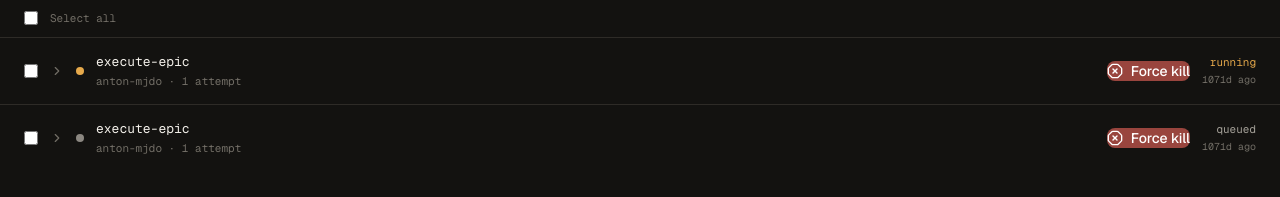
Scenario: Bulk kill bar › cancels only the ids the server confirmed and surfaces each refusal
Click the checkbox labelled "Select all" at x=31, y=18, box [24,11,38,25]
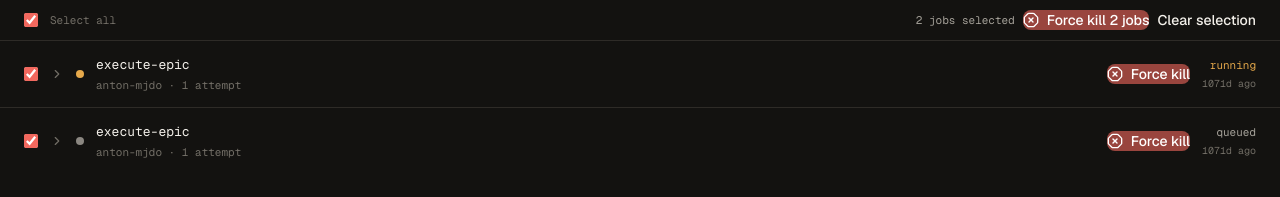
Click the button "Force kill 2 jobs" at x=1086, y=20, box [1023,10,1150,30]
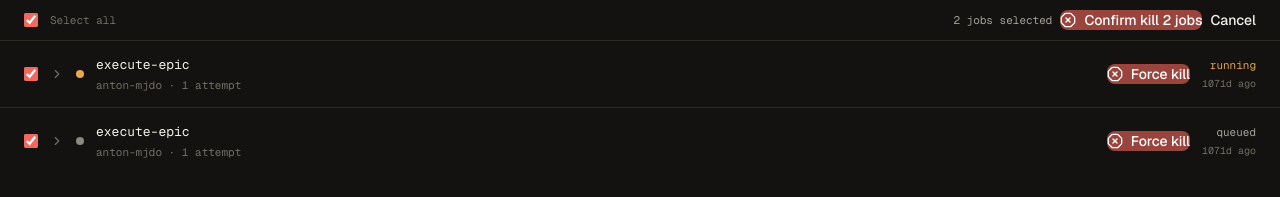
Click the button "Confirm kill 2 jobs" at x=1131, y=20, box [1060,10,1202,30]
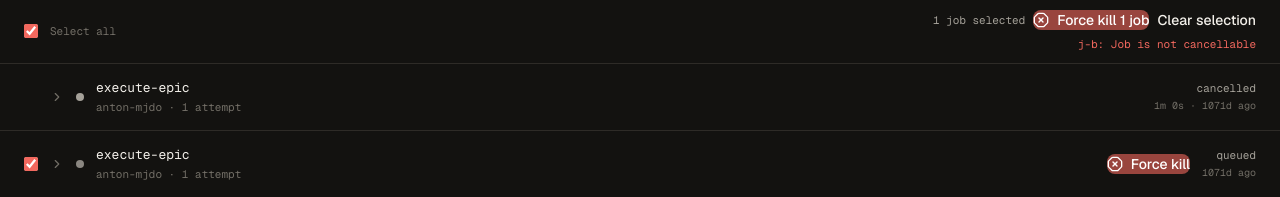
Check: the text "cancelled" is shown, box [1197,80,1256,96]
Check: the text "running" is gone
Check: the message shows "j-b", box [1078,37,1098,51]
